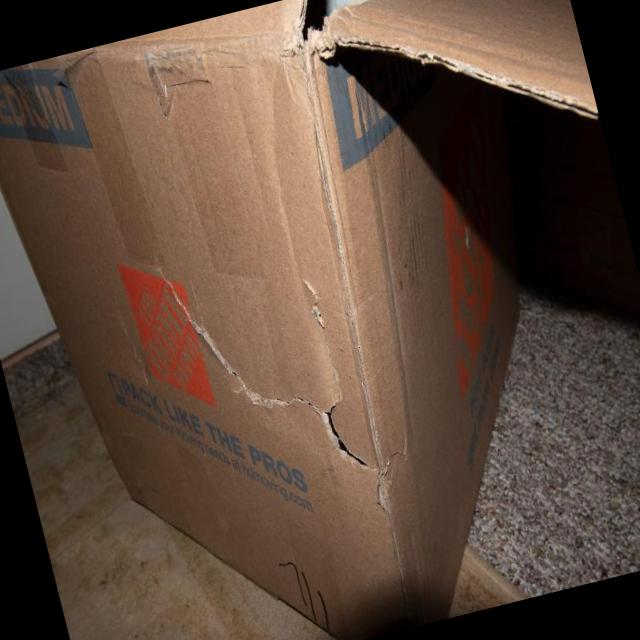box: (1, 1, 640, 640)
tear: (155, 270, 330, 457), (332, 405, 403, 519)
